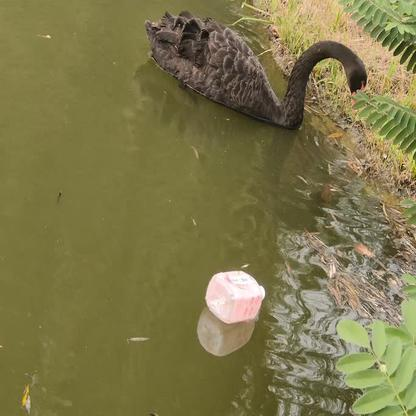plastic bottle: (202, 269, 266, 323)
